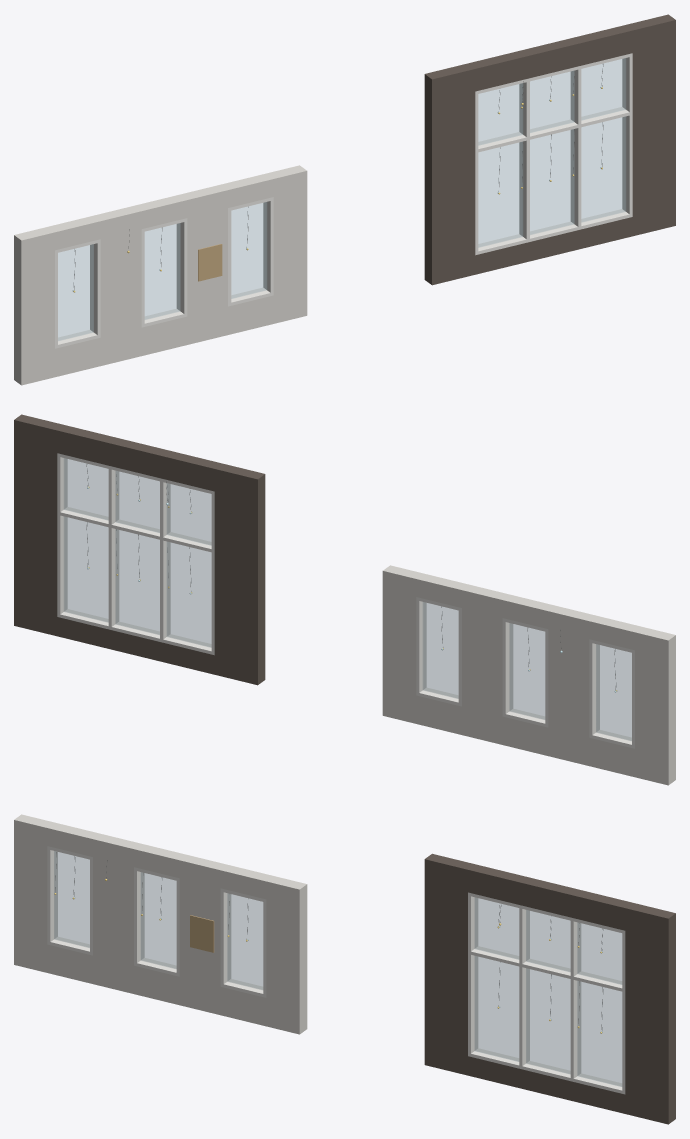
The model's file is n50_window_banks.glb.
3 views of the same model, one above another, from view 1: azimuth 30°, elevation 25°; view 2: azimuth 150°, elevation 25°; view 3: azimuth 330°, elevation 25° (orthographic).
Visible parts, largest first — view 1: N50_B_wall_L, N50_B_wall_R, N50_A_wall_B, N50_A_wall_T, N50_B_wall_T, N50_B_glass_3, N50_B_glass_1, N50_B_glass_2, N50_A_pier_1, N50_A_pier_0, N50_A_pier_3, N50_A_pier_2 (+18 smaller); view 2: N50_B_wall_L, N50_B_wall_R, N50_A_wall_B, N50_A_wall_T, N50_B_wall_T, N50_B_glass_3, N50_B_glass_1, N50_B_glass_2, N50_A_pier_1, N50_A_pier_2, N50_A_pier_0, N50_A_pier_3 (+17 smaller); view 3: N50_B_wall_R, N50_B_wall_L, N50_A_wall_B, N50_A_wall_T, N50_B_wall_T, N50_B_glass_1, N50_B_glass_3, N50_B_glass_2, N50_A_pier_3, N50_A_pier_1, N50_A_pier_2, N50_A_pier_0 (+18 smaller).
Boxes of the visible parts, x1,y1,x2,y2 form: N50_B_wall_L: [424, 63, 475, 285]; N50_B_wall_R: [625, 14, 675, 236]; N50_A_wall_B: [14, 287, 307, 385]; N50_A_wall_T: [14, 165, 307, 258]; N50_B_wall_T: [468, 25, 632, 91]; N50_B_glass_3: [581, 116, 625, 222]; N50_B_glass_1: [478, 142, 522, 247]; N50_B_glass_2: [530, 129, 574, 234]; N50_A_pier_1: [100, 229, 141, 337]; N50_A_pier_0: [14, 250, 54, 356]; N50_A_pier_3: [273, 189, 307, 295]; N50_A_pier_2: [187, 208, 227, 316]; N50_B_wall_L: [214, 463, 265, 685]; N50_B_wall_R: [14, 414, 64, 636]; N50_A_wall_B: [382, 687, 675, 785]; N50_A_wall_T: [382, 565, 675, 658]; N50_B_wall_T: [57, 425, 221, 491]; N50_B_glass_3: [64, 516, 108, 622]; N50_B_glass_1: [167, 542, 211, 647]; N50_B_glass_2: [115, 529, 159, 634]; N50_A_pier_1: [548, 629, 589, 737]; N50_A_pier_2: [462, 608, 502, 716]; N50_A_pier_0: [635, 650, 675, 756]; N50_A_pier_3: [382, 589, 416, 695]; N50_B_wall_R: [625, 902, 675, 1124]; N50_B_wall_L: [424, 853, 474, 1075]; N50_A_wall_B: [14, 936, 307, 1034]; N50_A_wall_T: [14, 814, 307, 907]; N50_B_wall_T: [468, 864, 631, 930]; N50_B_glass_1: [474, 956, 518, 1061]; N50_B_glass_3: [577, 981, 621, 1086]; N50_B_glass_2: [526, 968, 570, 1074]; N50_A_pier_3: [266, 899, 307, 1005]; N50_A_pier_1: [93, 857, 133, 965]; N50_A_pier_2: [179, 878, 220, 986]; N50_A_pier_0: [14, 838, 47, 944].
Size of the model in its own units: 15.12 by 4.54 by 0.95.
